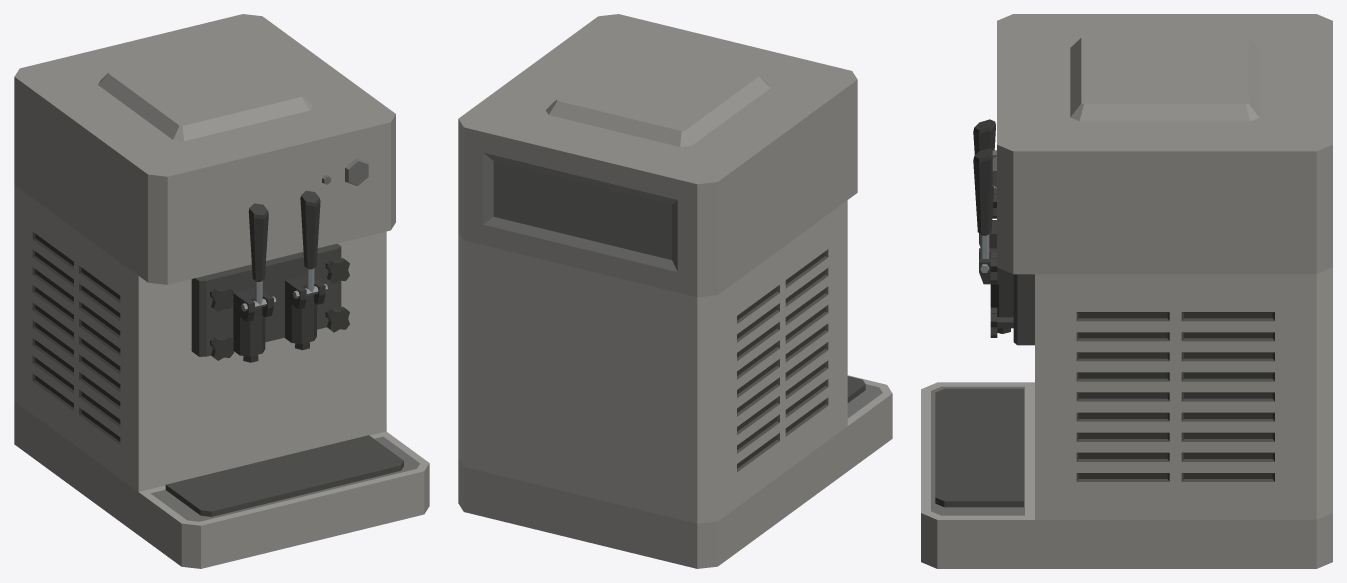
File: SM_Props_Interior_Shop_Restaurant_IceCreamMachine.fbx
The picture shows the model from 3 angles, left to right: view 1: azimuth 30°, elevation 25°; view 2: azimuth 150°, elevation 25°; view 3: azimuth 270°, elevation 25°; orthographic projection. The views are drawn at different scales.
Parts seen in each view (by area): view 1: SM_Props_Interior_Shop_Restaurant_IceCreamMachine; view 2: SM_Props_Interior_Shop_Restaurant_IceCreamMachine; view 3: SM_Props_Interior_Shop_Restaurant_IceCreamMachine.
Part boxes in pixels (<box>): SM_Props_Interior_Shop_Restaurant_IceCreamMachine: <box>14,14,429,568</box>; SM_Props_Interior_Shop_Restaurant_IceCreamMachine: <box>458,14,892,568</box>; SM_Props_Interior_Shop_Restaurant_IceCreamMachine: <box>921,14,1332,568</box>.
Bounding box in the file's own units: 48 × 70 × 60.8.
